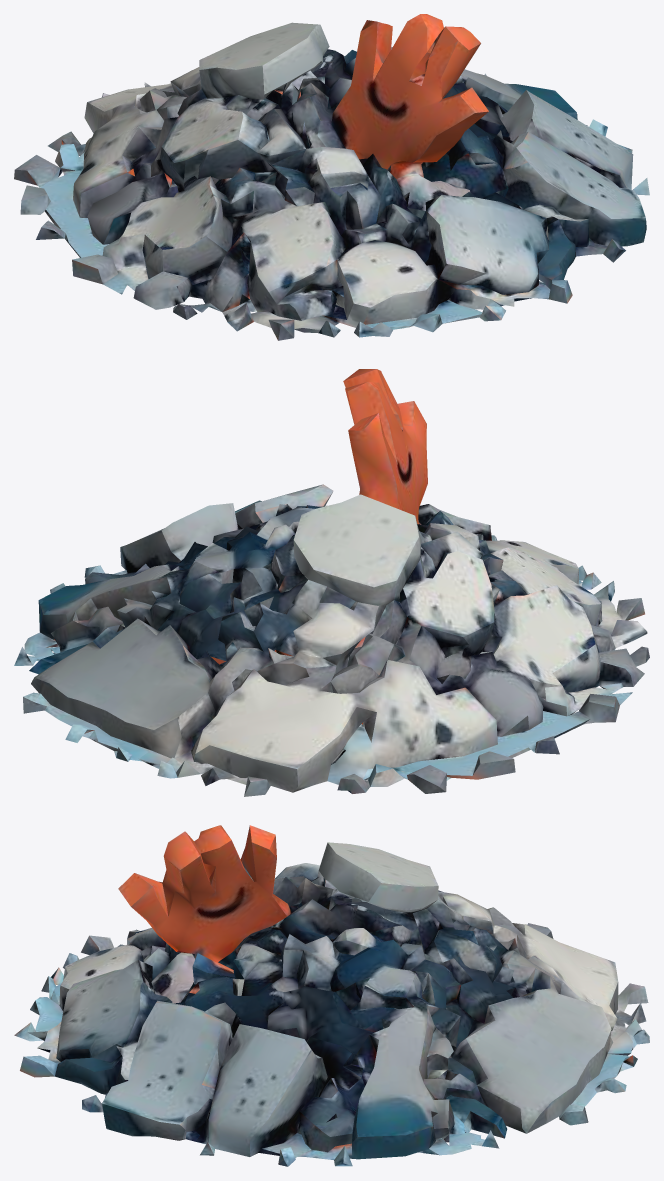
Rendered from rubble_done.glb.
3 views of the same model, one above another, from view 1: azimuth 30°, elevation 25°; view 2: azimuth 150°, elevation 25°; view 3: azimuth 270°, elevation 25° (orthographic). The views are drawn at different scales.
Parts seen in each view (by area): view 1: rubble_done_s21; view 2: rubble_done_s21; view 3: rubble_done_s21.
Boxes of the visible parts, x1,y1,x2,y2 form: rubble_done_s21: [14, 14, 649, 340]; rubble_done_s21: [14, 369, 649, 796]; rubble_done_s21: [14, 825, 649, 1166].
Size of the model in its own units: 0.9776 by 0.3892 by 1.
1 material, 1 textured.
